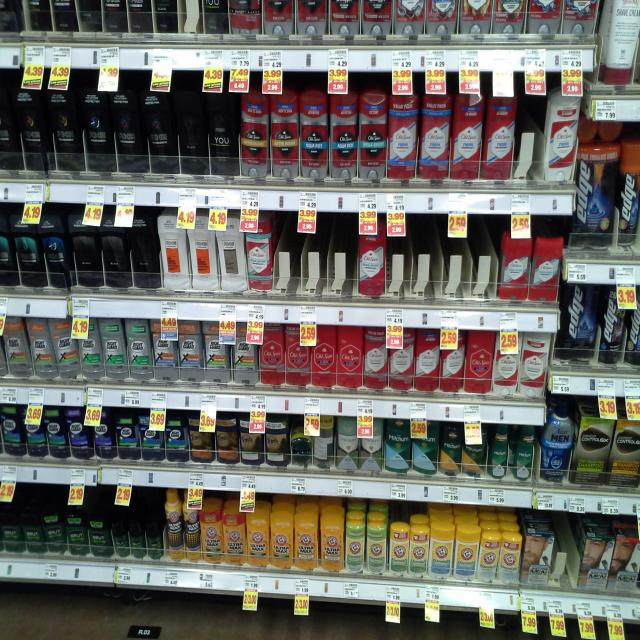empty: (384, 223, 503, 301), (260, 216, 355, 303), (553, 510, 582, 585), (518, 98, 542, 182)
